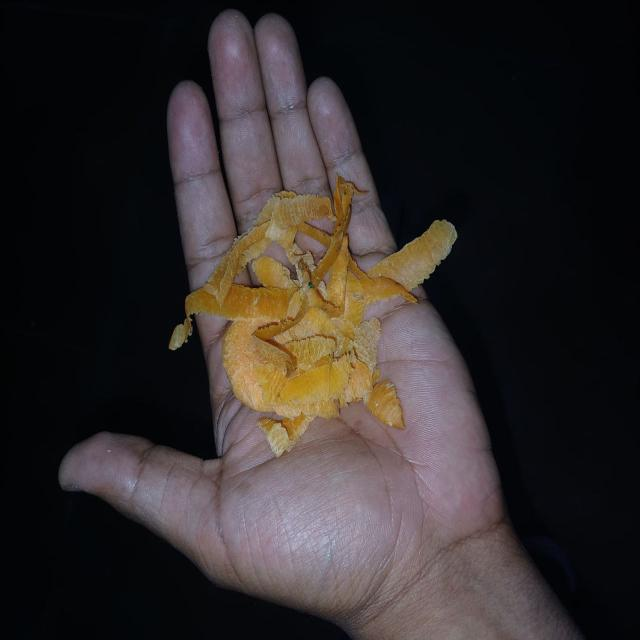organic: (170, 178, 456, 457)
